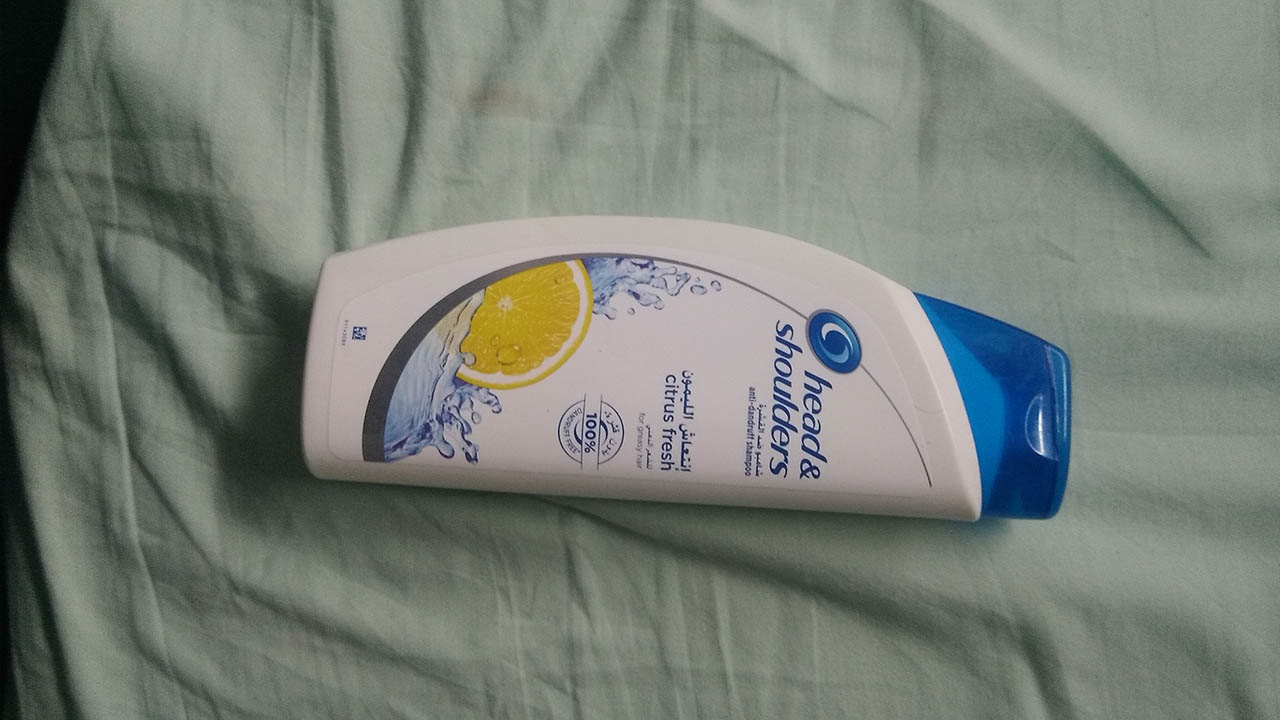shampoo-Lemon 3.5$: (287, 186, 1078, 555)
